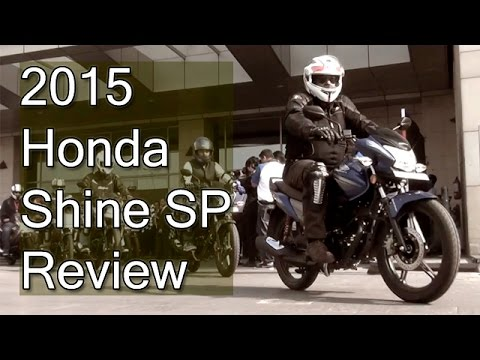helmet: (305, 54, 346, 101), (192, 136, 216, 163)
